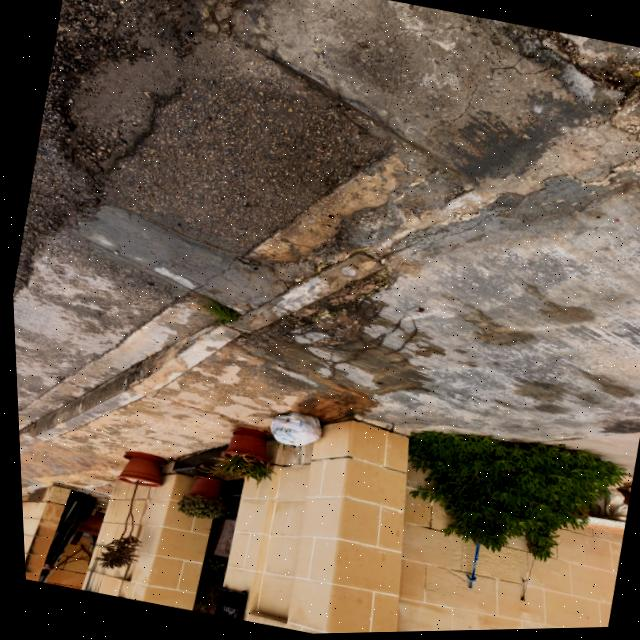Organic Waste -White Bag-: (262, 407, 321, 453)
